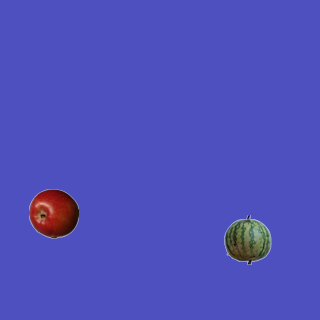Apple Braeburn: (28, 188, 78, 238)
Watermelon: (222, 214, 272, 264)
